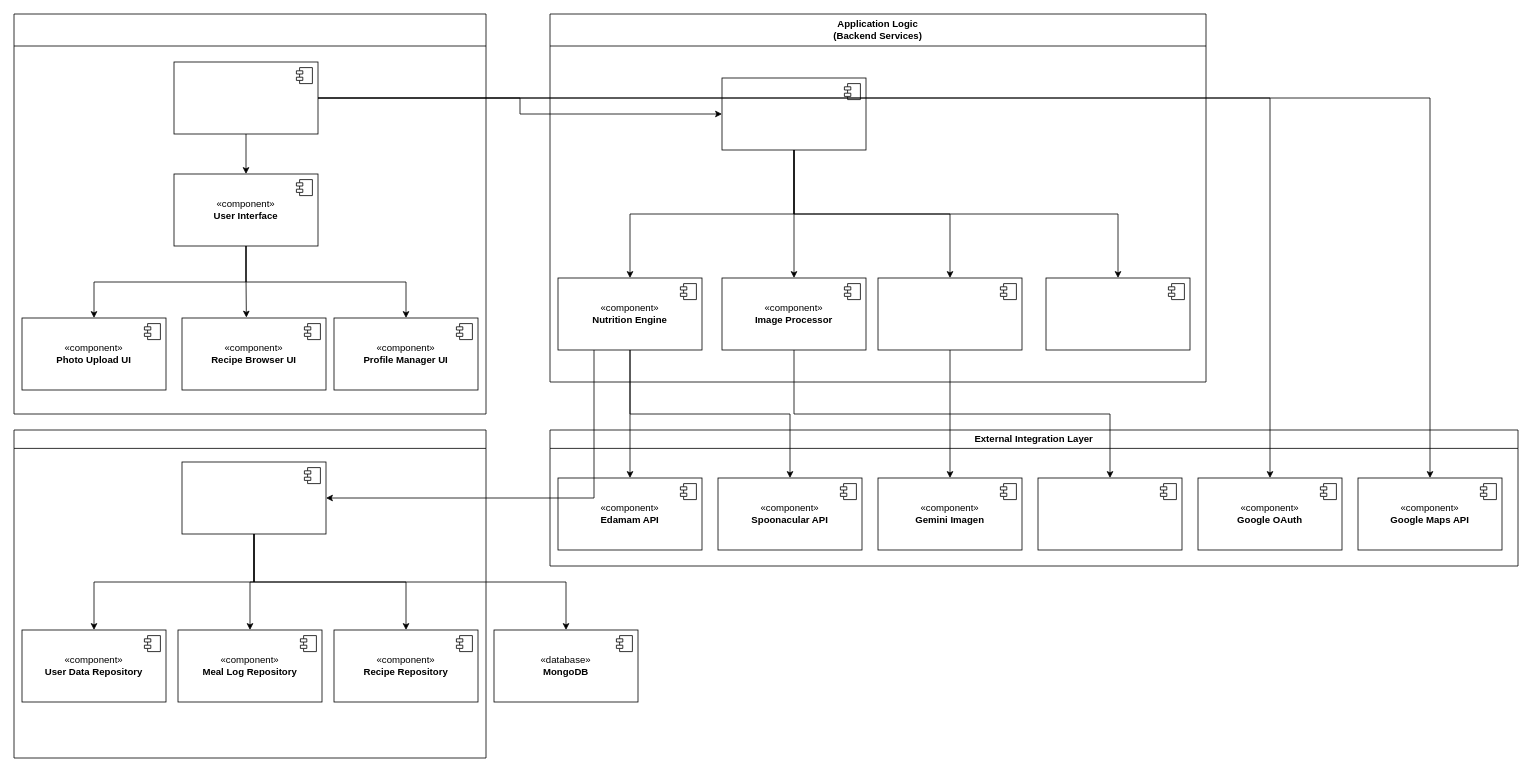
This 1532x772 diagram has some shape labels left out. Here are the shapes that lost their labels. From the top down, the box of each, then its label:
(173, 61, 318, 134): «component» React Native App
(721, 77, 866, 150): «component» API Gateway
(13, 13, 486, 414): Presentation Layer (Frontend)
(877, 277, 1022, 350): «component» AI Integration Service
(1045, 277, 1190, 350): «component» Data Validator
(181, 461, 326, 534): «component» MongoDB Access Module
(1037, 477, 1182, 550): «component» GPT-4o
(13, 429, 486, 758): Data Access Layer
